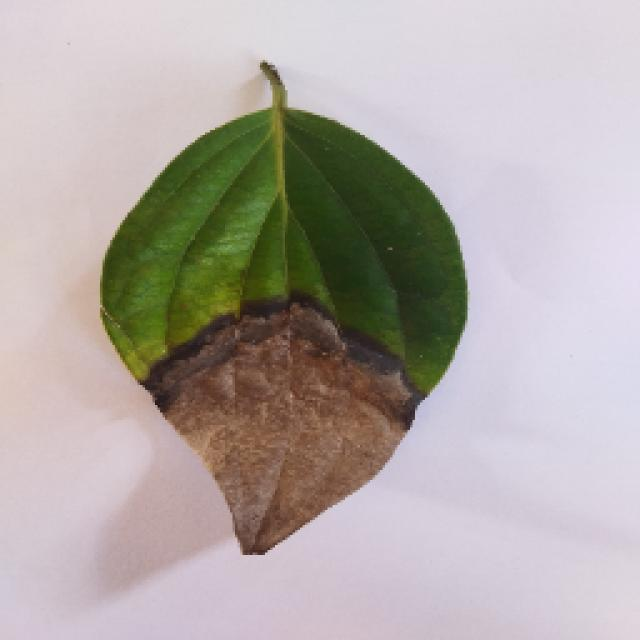footrot: (80, 62, 475, 560)
